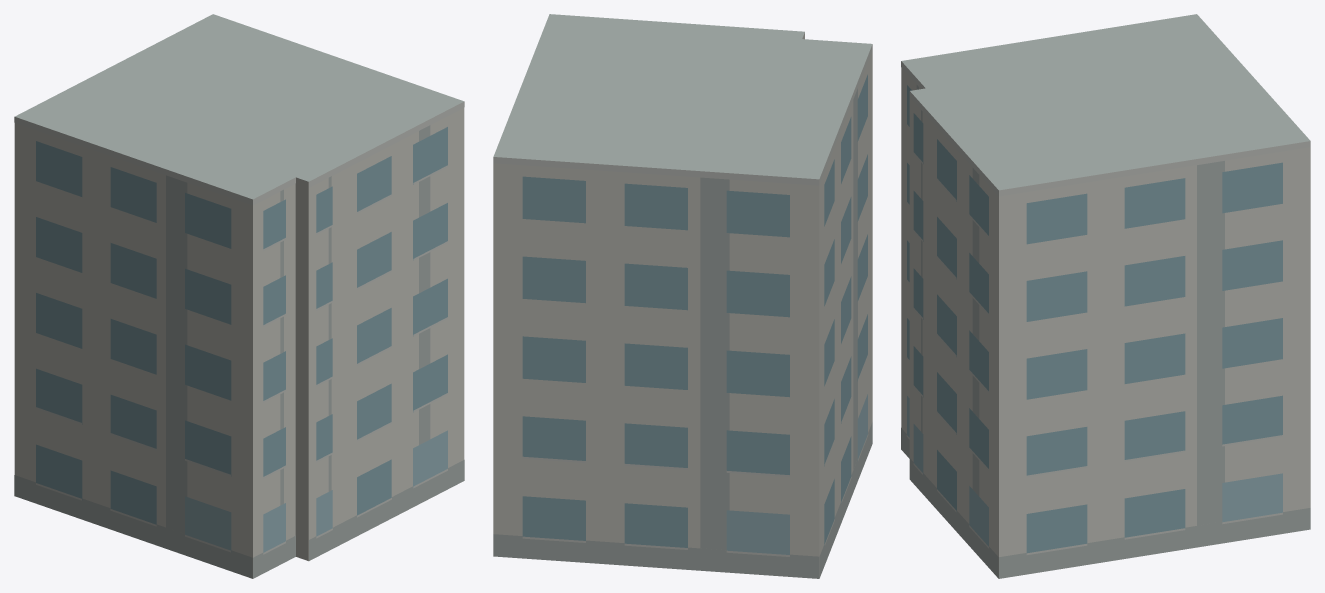
The model's file is survey-upis-32850728.glb.
3 views of the same model, side by side, from view 1: azimuth 30°, elevation 25°; view 2: azimuth 150°, elevation 25°; view 3: azimuth 270°, elevation 25° (orthographic). The views are drawn at different scales.
Parts seen in each view (by area): view 1: survey-upis-32850728.tmp; view 2: survey-upis-32850728.tmp; view 3: survey-upis-32850728.tmp.
Part boxes in pixels (x1,y1,x2,y2): survey-upis-32850728.tmp: (14,14,464,578); survey-upis-32850728.tmp: (493,14,872,578); survey-upis-32850728.tmp: (901,14,1310,578).
Bounding box in the file's own units: 14.86 × 15.25 × 14.58.
